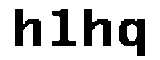1: (45, 5, 77, 52)
h: (9, 6, 42, 50), (81, 6, 112, 50)
q: (117, 15, 150, 60)
